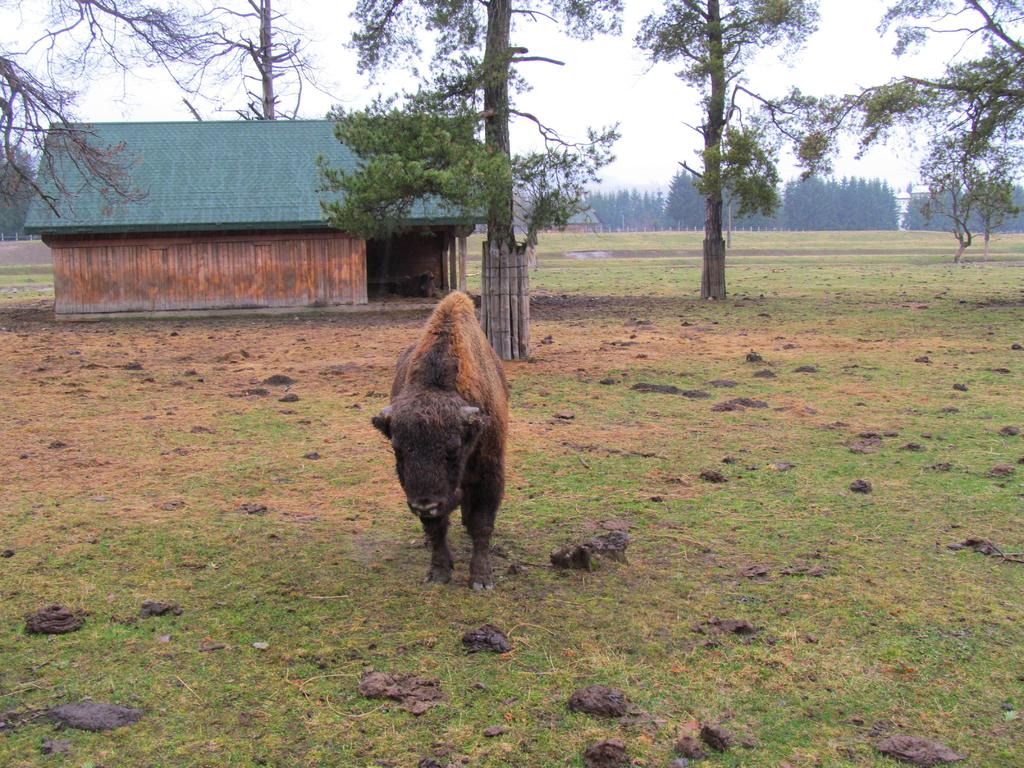Animal: (350, 294, 511, 598)
